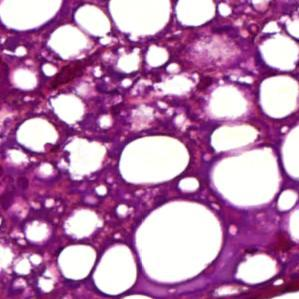steatosis: (142, 201, 231, 282), (121, 137, 194, 188), (94, 244, 139, 290), (55, 238, 97, 278)
